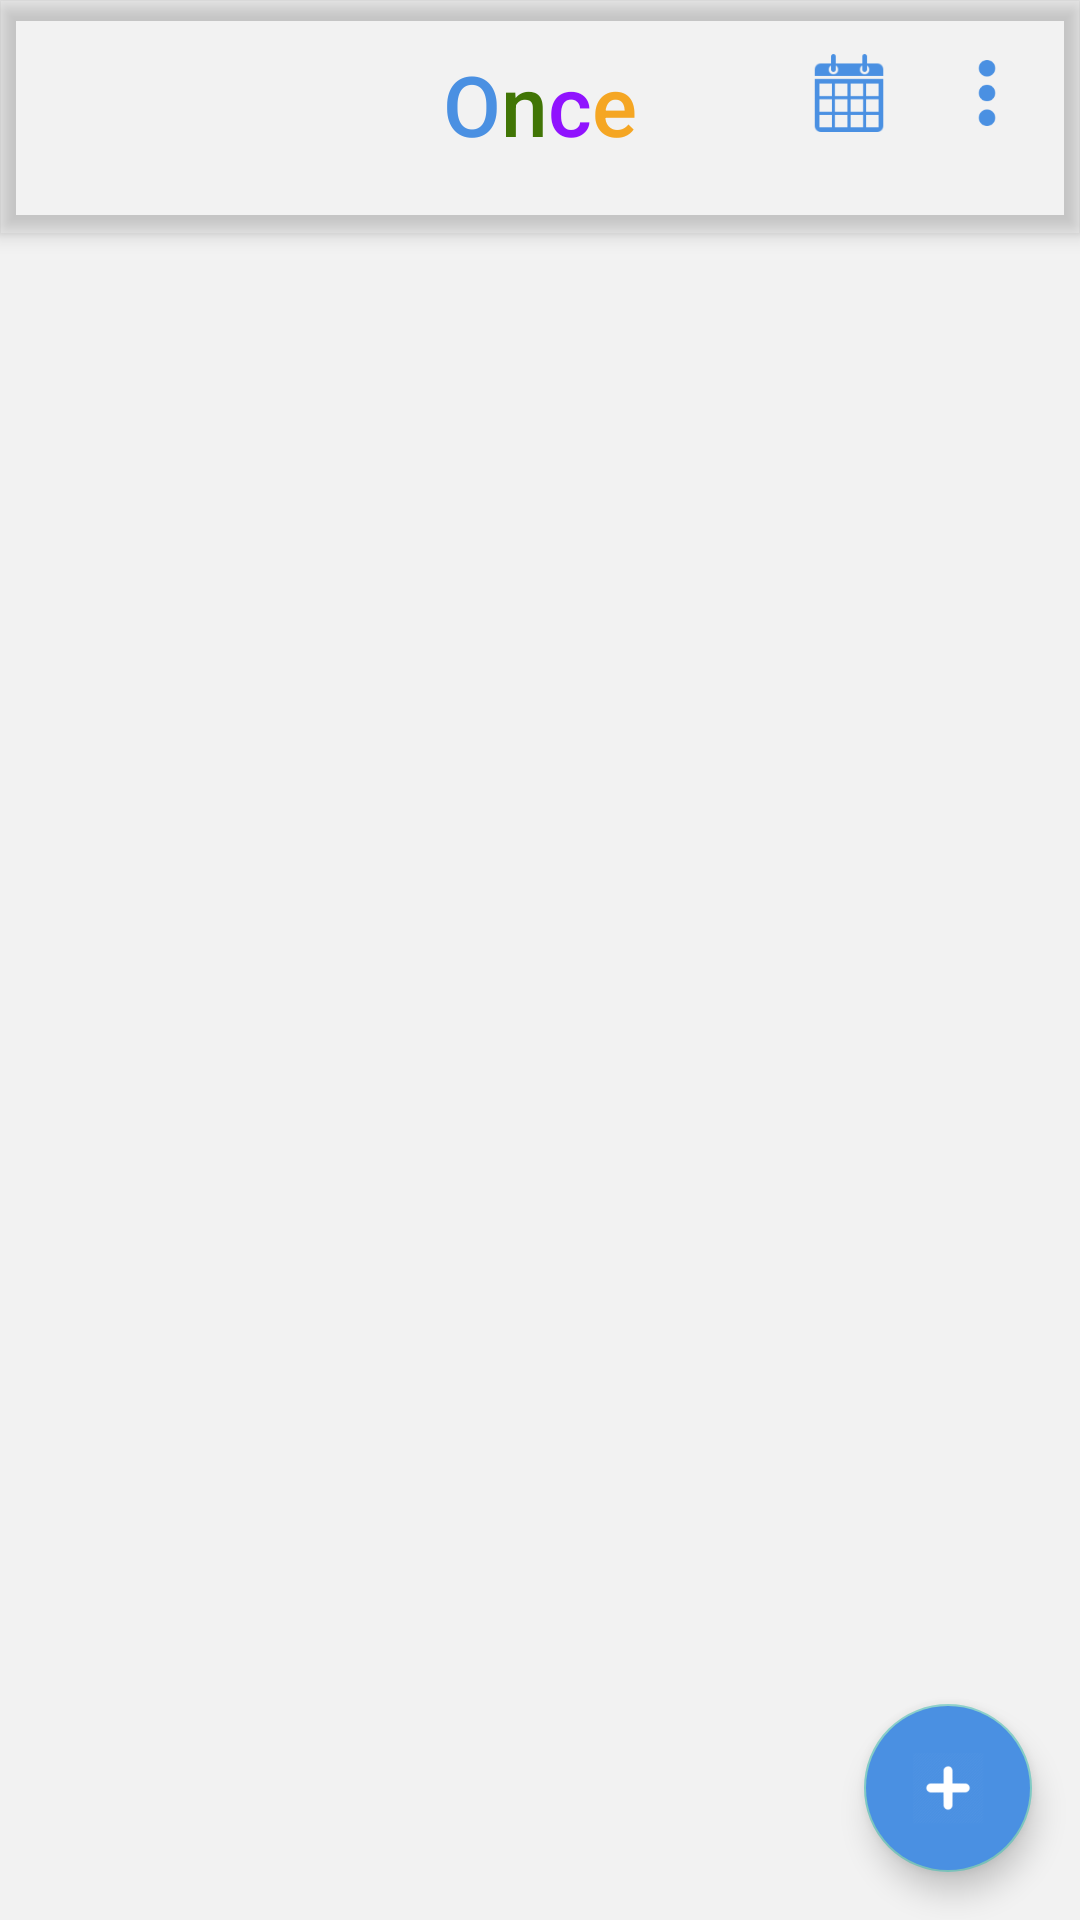

Locate icon controls on the screen. Image size 1080 x 1920, boxes as (x1, y1, x2, y2).
calendar: (814, 54, 884, 132)
dots: (978, 60, 996, 126)
plus: (864, 1704, 1032, 1872)
